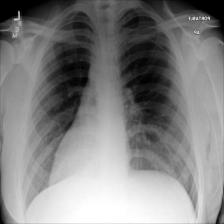normal: (19, 7, 202, 224)
